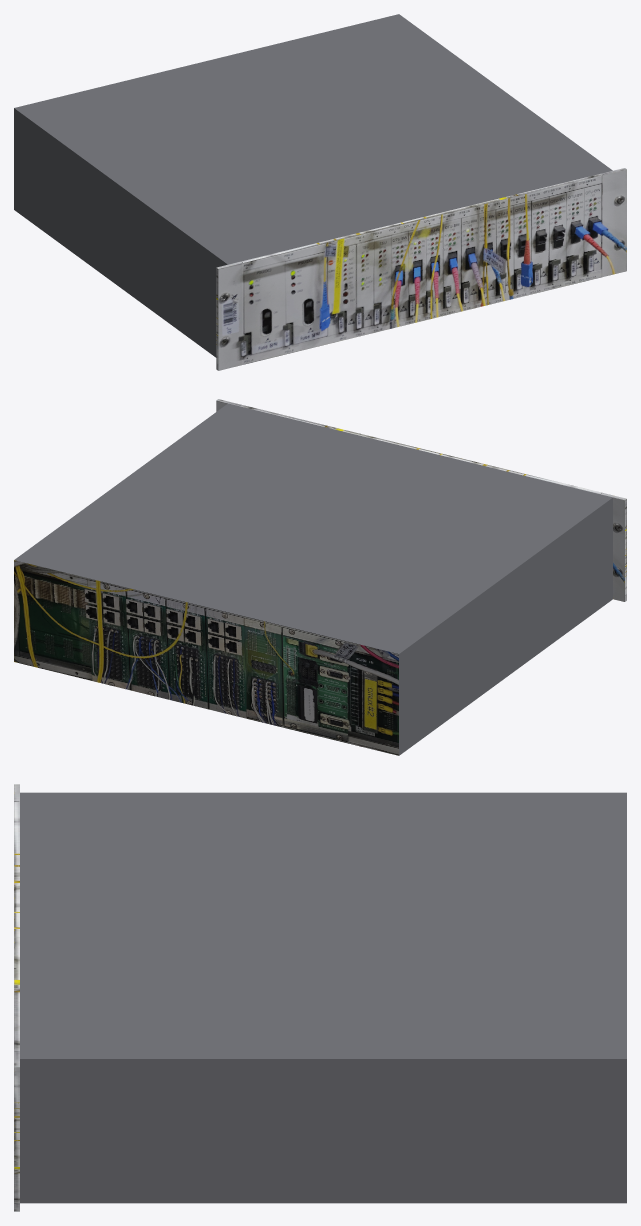
The model's file is UTRANS-155M.fbx.
3 views of the same model, one above another, from view 1: azimuth 30°, elevation 25°; view 2: azimuth 150°, elevation 25°; view 3: azimuth 270°, elevation 25° (orthographic). The views are drawn at different scales.
Parts seen in each view (by area): view 1: UTRANS-155M; view 2: UTRANS-155M; view 3: UTRANS-155M.
Part boxes in pixels (box(x1,y1,x2,y2)): UTRANS-155M: box(14, 14, 626, 370); UTRANS-155M: box(14, 399, 626, 755); UTRANS-155M: box(14, 784, 626, 1211).
Bounding box in the file's own units: 560 × 133 × 513.
3 materials, 2 textured.
